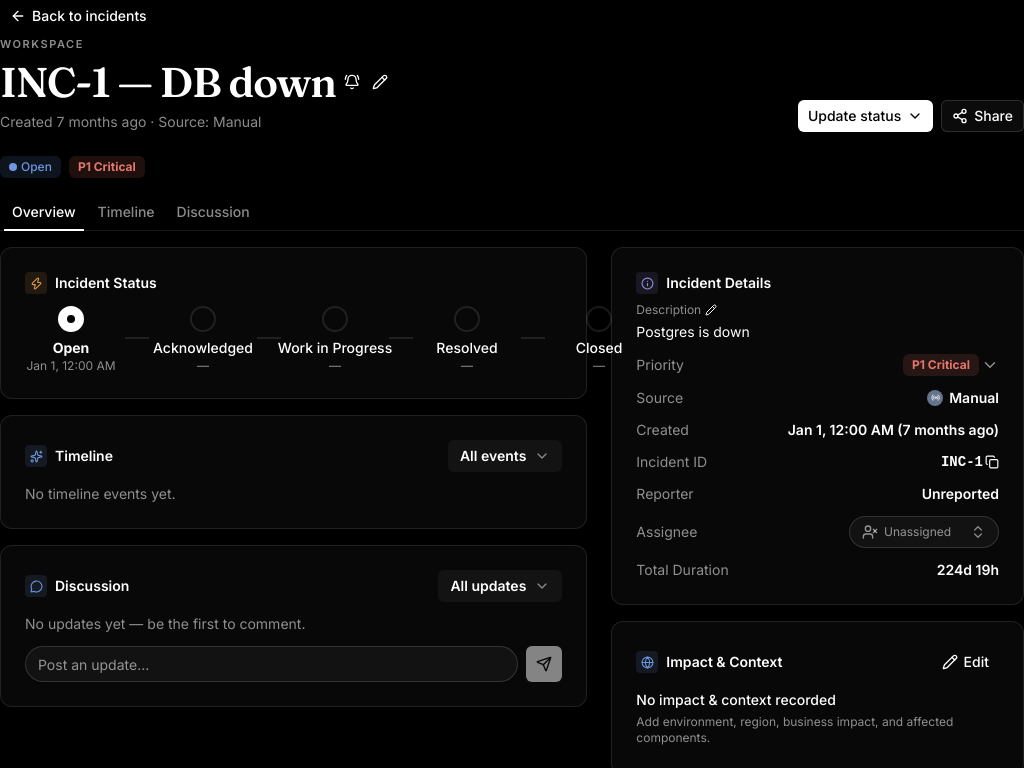
Test: IncidentDetailPage — header › opens the edit dialog via the title pencil icon
Click the button titled "Edit title" at (380, 82), box [364,66,396,98]
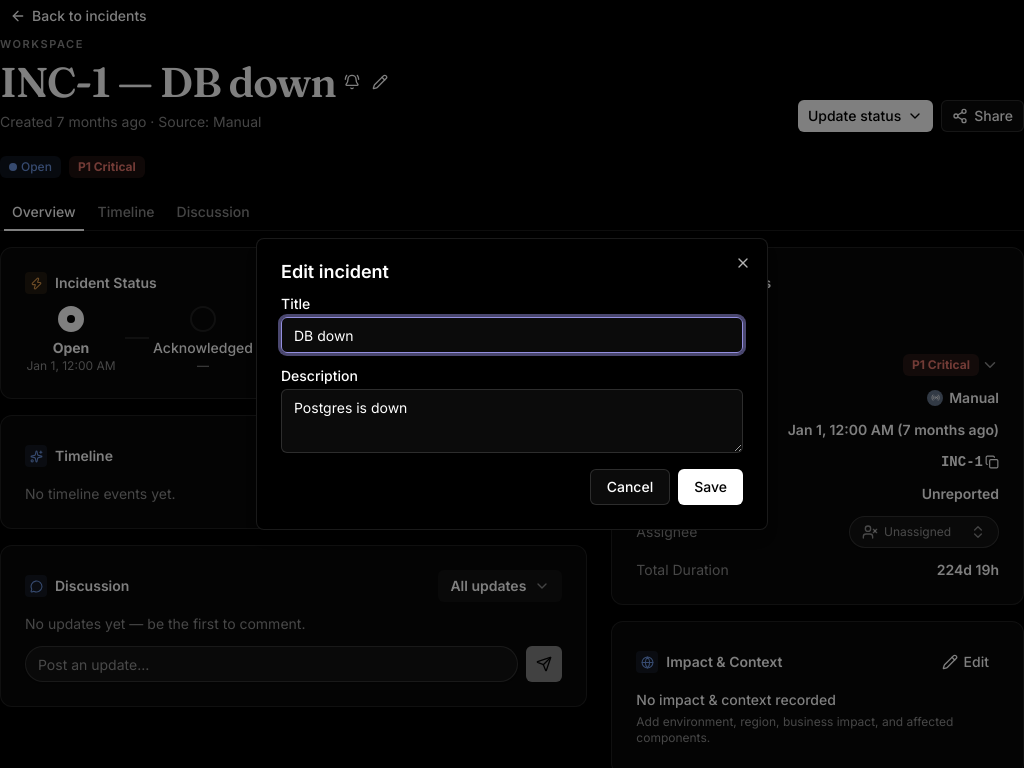
Now the dialog is shown, box [256,238,768,530]
